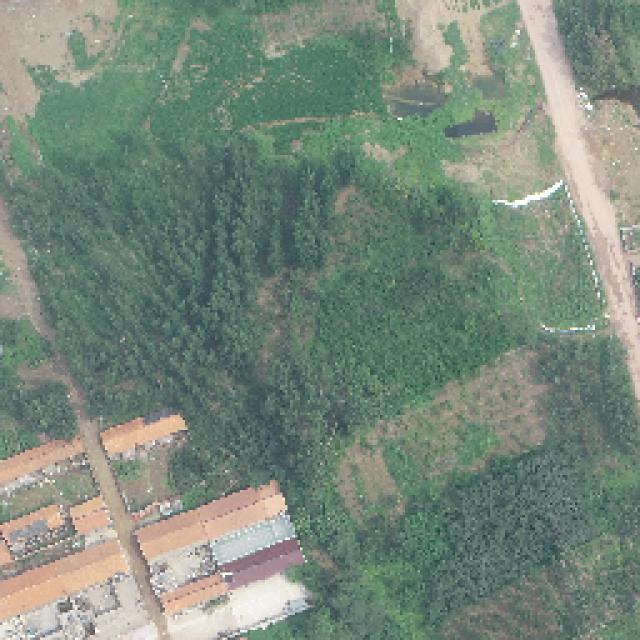Batiment: (100, 414, 186, 456), (1, 440, 83, 484)
